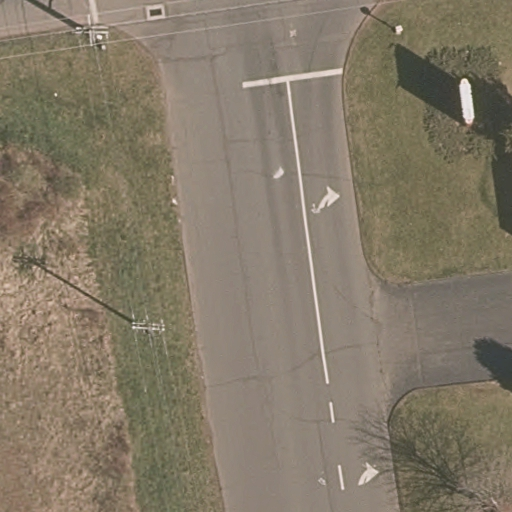DT: (71, 9, 118, 58), (126, 305, 172, 350)
